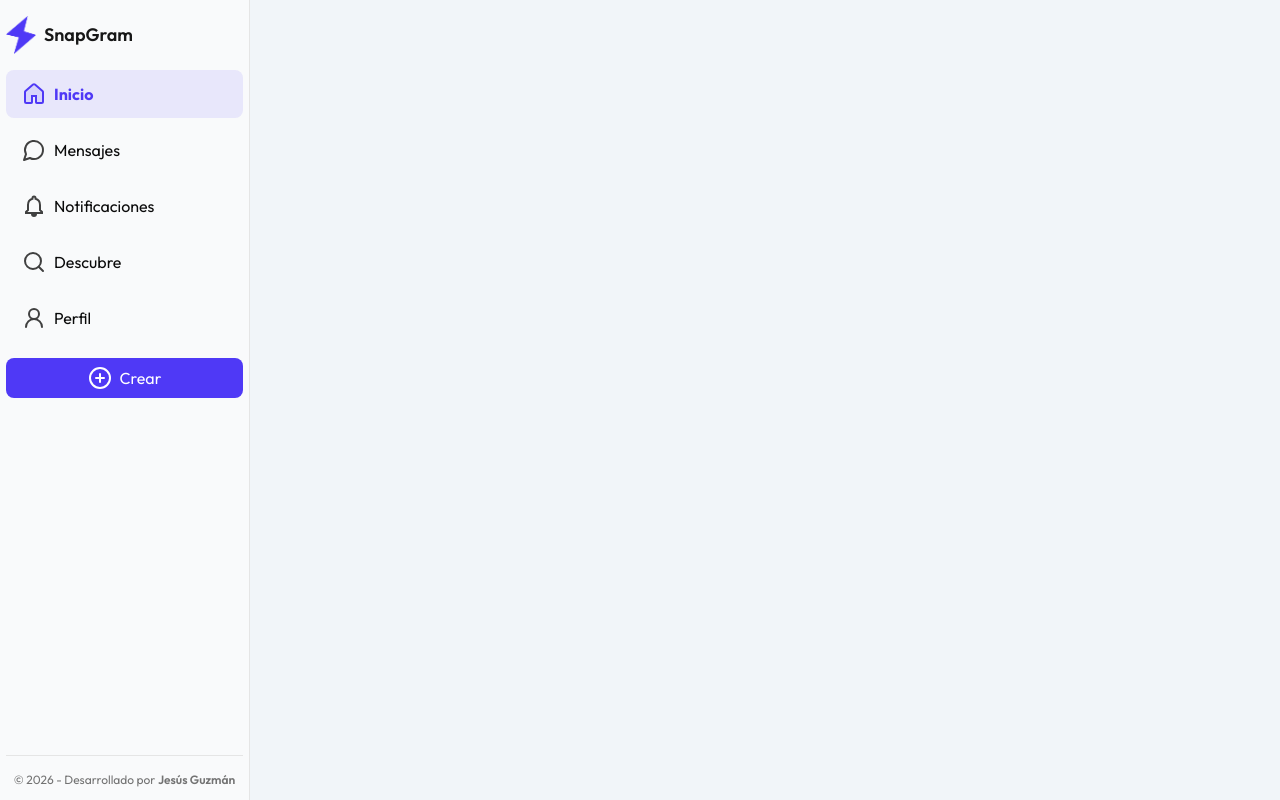
it: CreatePostModal › debe mostrar el formulario de crear post al clickear la opción del dropdown y debe hacer autofocus al input del post
The width and height of the screenshot is (1280, 800).
Click the button with test id "create-publication-btn": {"x": 124, "y": 378} [6,358,243,398]
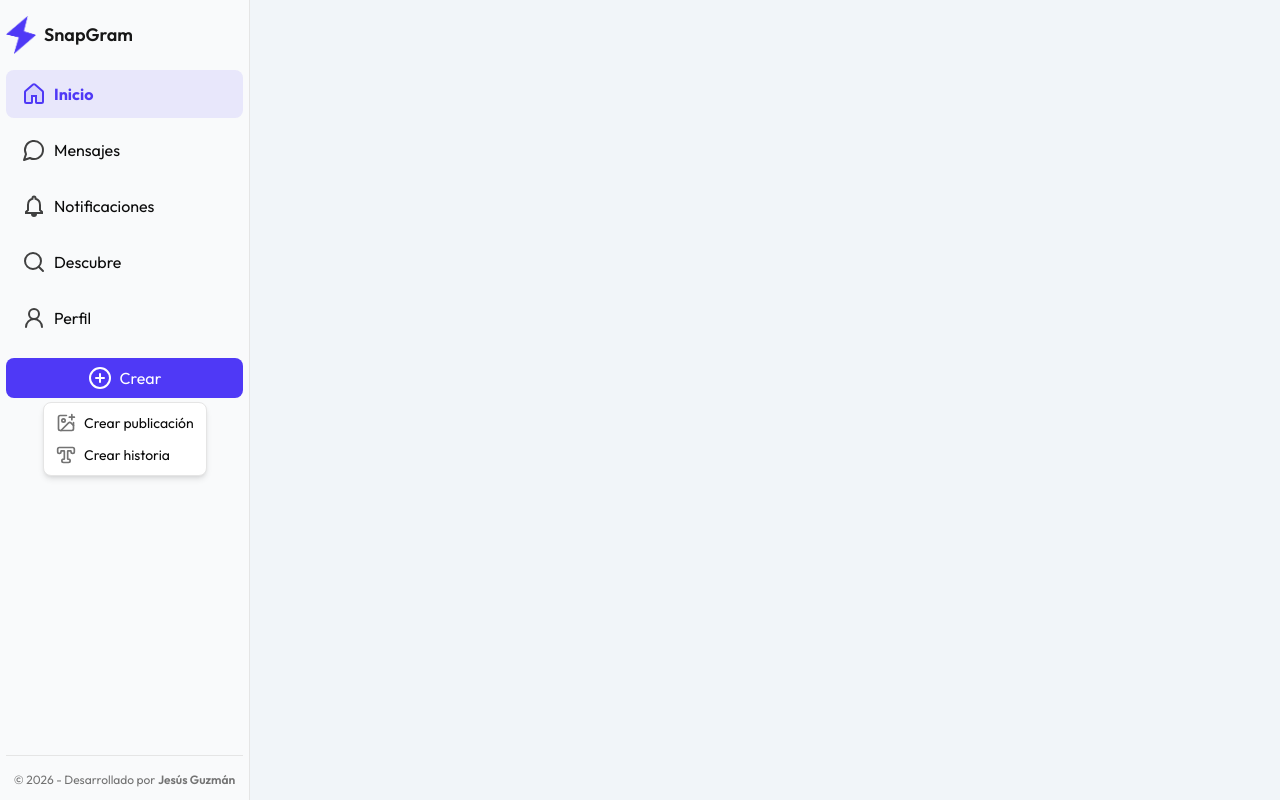
Click the menu item with test id "create-post-option": {"x": 125, "y": 423} [48,407,202,439]
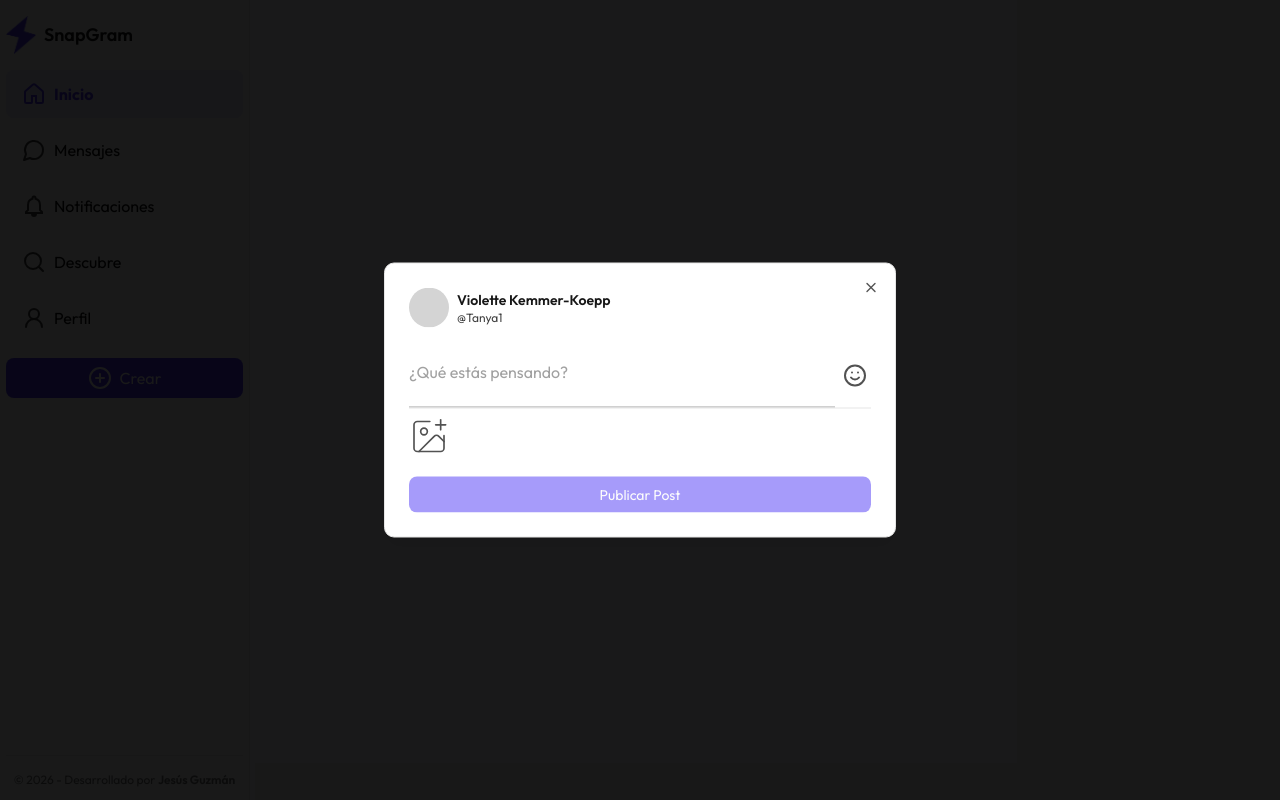
expect the form with test id "create-post-form" is shown: met, box [409,344,871,512]
